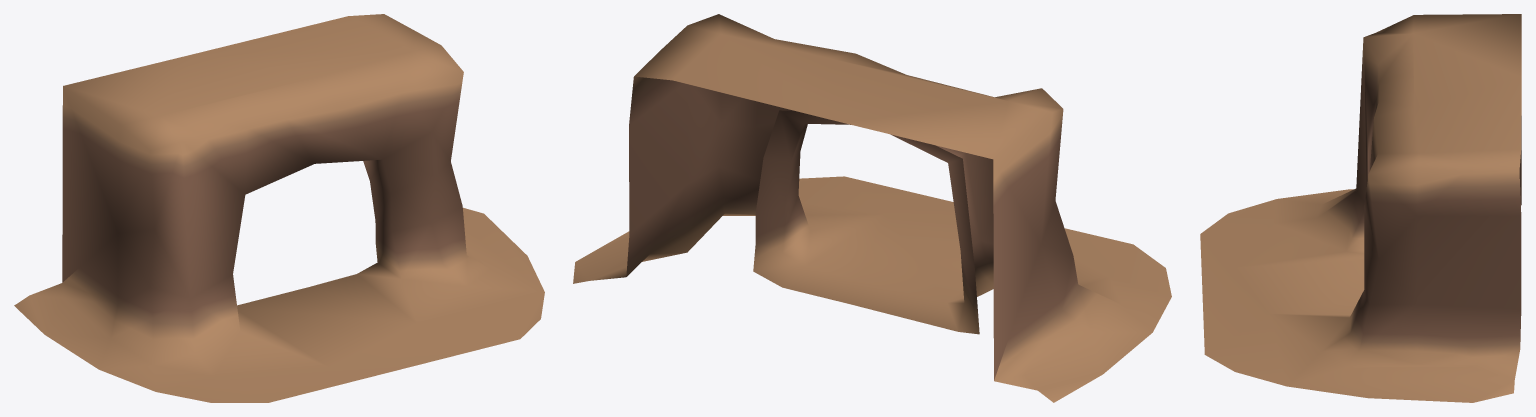
The model's file is Mines Model Entry.glb.
The picture shows the model from 3 angles, left to right: view 1: azimuth 30°, elevation 25°; view 2: azimuth 150°, elevation 25°; view 3: azimuth 270°, elevation 25°; orthographic projection. The views are drawn at different scales.
Parts seen in each view (by area): view 1: Mines Model Entry; view 2: Mines Model Entry; view 3: Mines Model Entry.
Part boxes in pixels (x1,y1,x2,y2): Mines Model Entry: (14,14,544,402); Mines Model Entry: (573,14,1171,402); Mines Model Entry: (1200,14,1521,402).
Size of what is drawn, in the model's own units: 10.65 by 4.85 by 6.71.
1 material, 1 textured.
